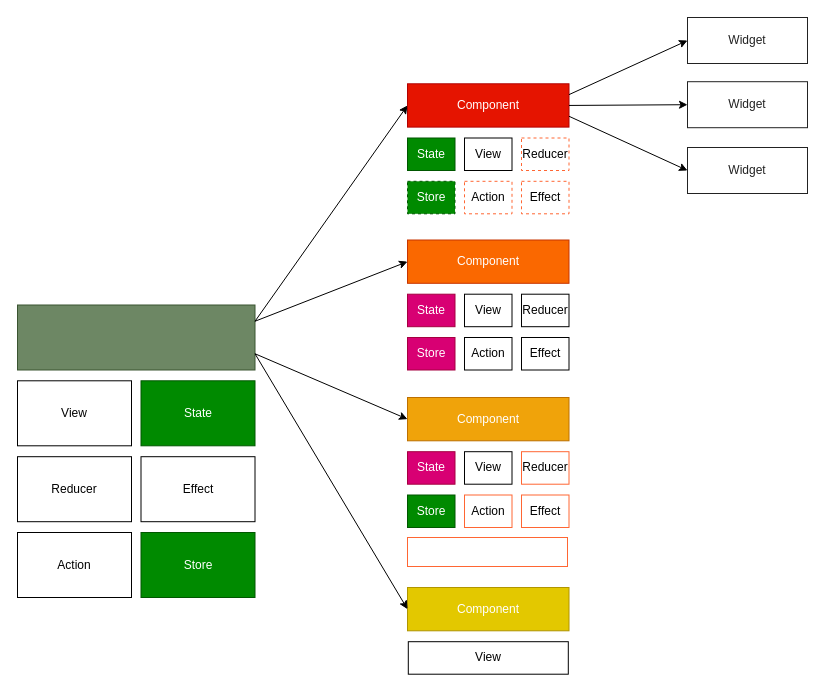
This 825x692 diagram has some shape labels left out. The shapes that lost their labels are listed below. From the top down, each one's centre as x and y in pixels, then its label:
(x=135, y=337): Page
(x=487, y=551): Translator
